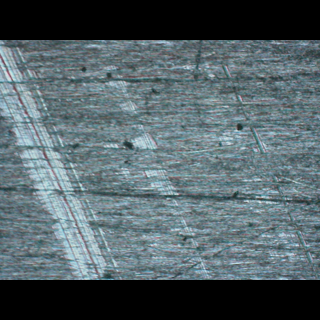d: (89, 39, 213, 279), (0, 43, 124, 279)
